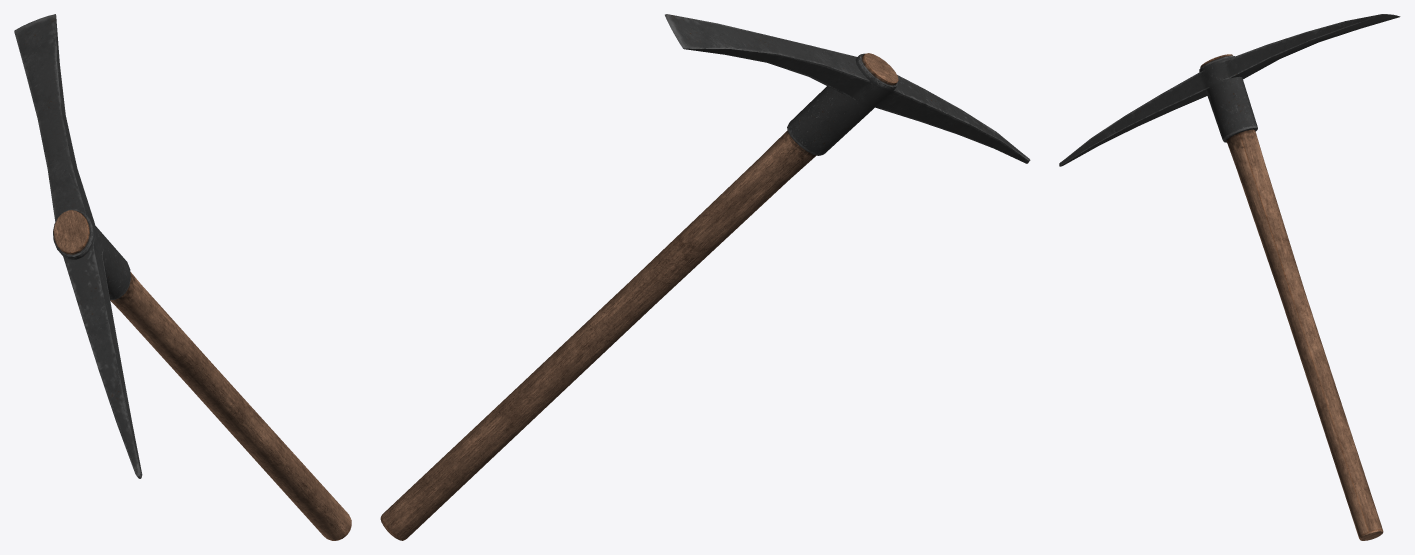
Rendered from pickaxe.glb.
The picture shows the model from 3 angles, left to right: view 1: azimuth 30°, elevation 25°; view 2: azimuth 150°, elevation 25°; view 3: azimuth 270°, elevation 25°; orthographic projection. The views are drawn at different scales.
Visible parts, largest first — view 1: Object_2; view 2: Object_2; view 3: Object_2.
Part boxes in pixels (x1=…): Object_2: x1=14, y1=14, x2=351, y2=540; Object_2: x1=380, y1=14, x2=1030, y2=540; Object_2: x1=1059, y1=14, x2=1400, y2=540.
Size of the model in its own units: 95.95 by 127 by 91.11.
Materials: 1 (1 with a texture image).
